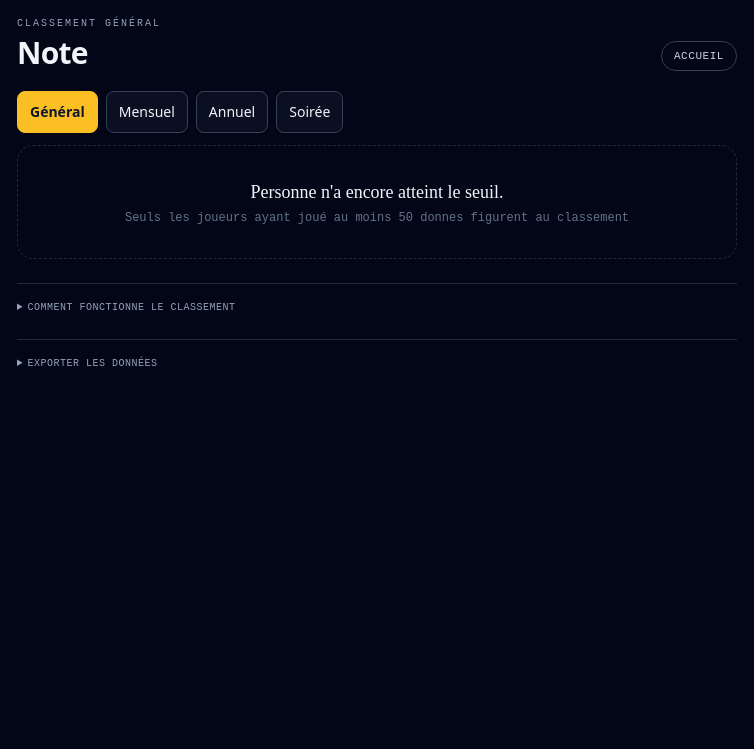
Test case: Classements mensuel et annuel › garde le général au seuil de 50 donnes et ajoute les saisons à des seuils plus bas
Expected: the text "Personne n'a encore atteint le seuil." is shown, [250, 182, 504, 202]
Click the button "Mensuel".
click(147, 112)  # box [106, 91, 188, 133]
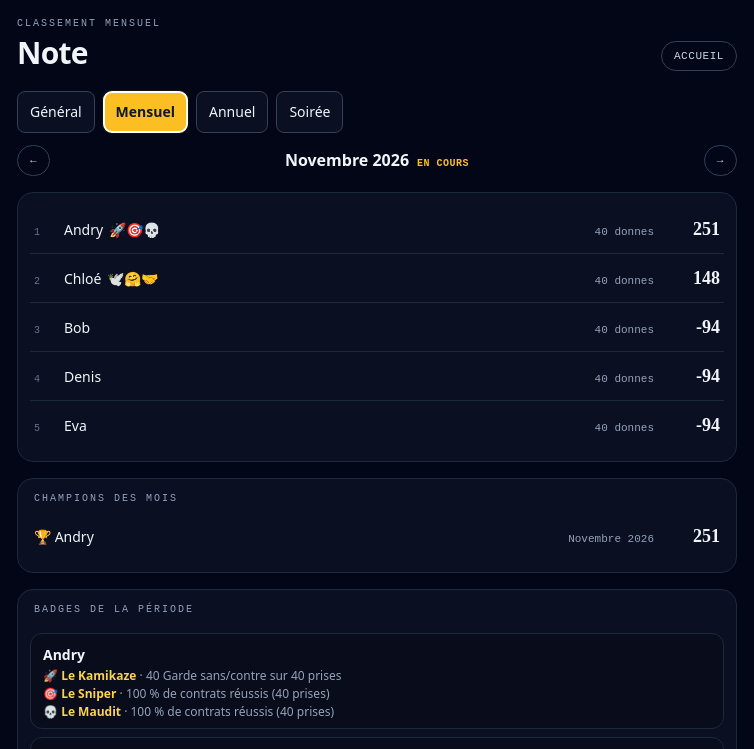
Result: the number of buttons with test id "classement-row" is 5 at [30, 204, 724, 254]; [30, 254, 724, 302]; [30, 302, 724, 352]; [30, 352, 724, 400]; [30, 400, 724, 448]
Result: the element with test id "periode-courante" shows "en cours" at [417, 158, 469, 169]
Click the button "Annuel".
click(232, 112)  # box [196, 91, 268, 133]
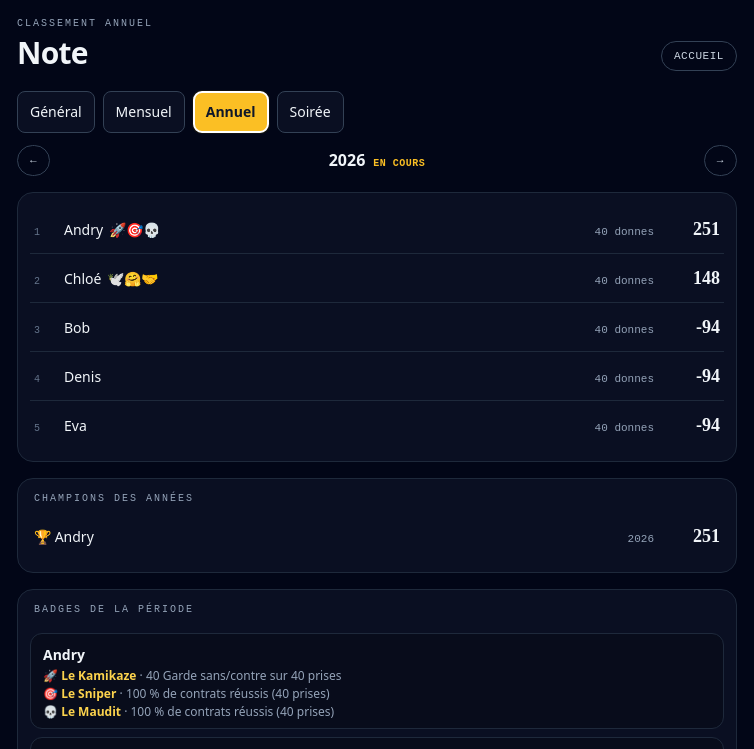
Result: the number of buttons with test id "classement-row" is 5 at [30, 204, 724, 254]; [30, 254, 724, 302]; [30, 302, 724, 352]; [30, 352, 724, 400]; [30, 400, 724, 448]
Result: the element with test id "periode-courante" shows "2026" at [329, 149, 365, 171]
Click the button "Général".
click(56, 112)  # box [17, 91, 95, 133]
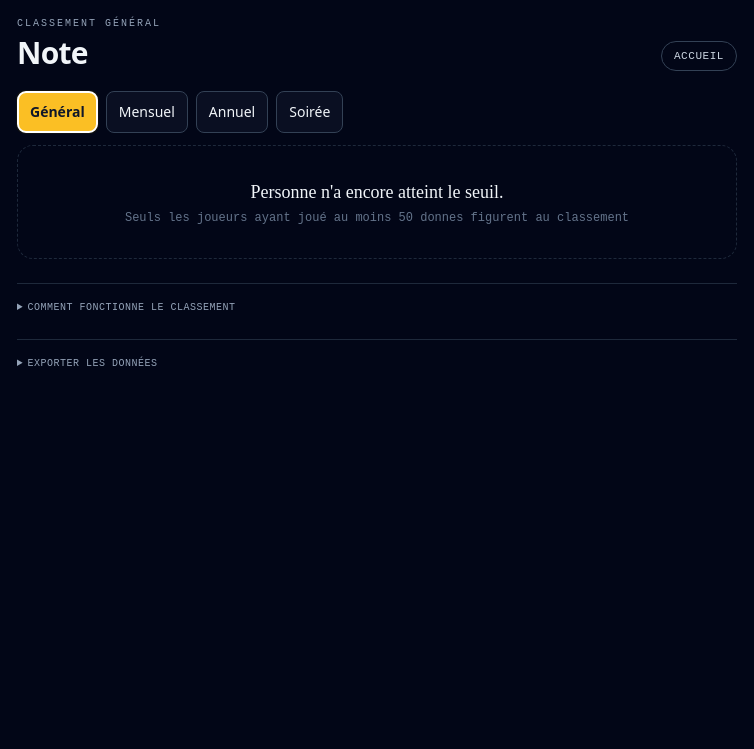
Result: the text "Personne n'a encore atteint le seuil." is shown at [250, 182, 504, 202]
